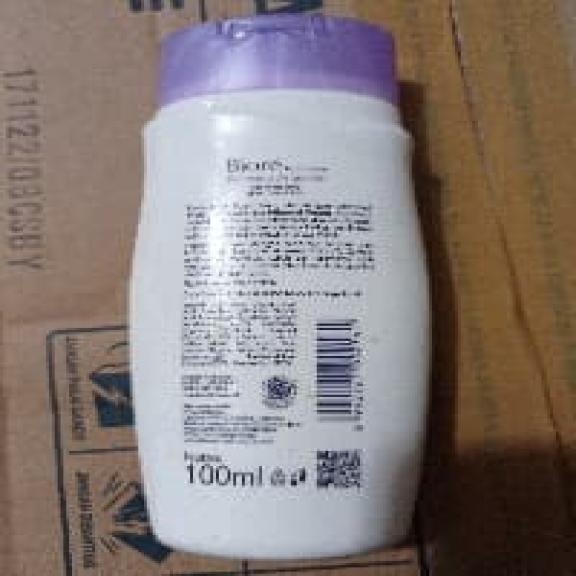Plastik: (140, 34, 423, 549)
